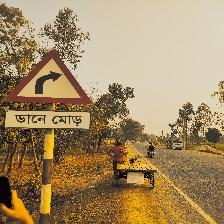Right-turn: (3, 50, 94, 130)
